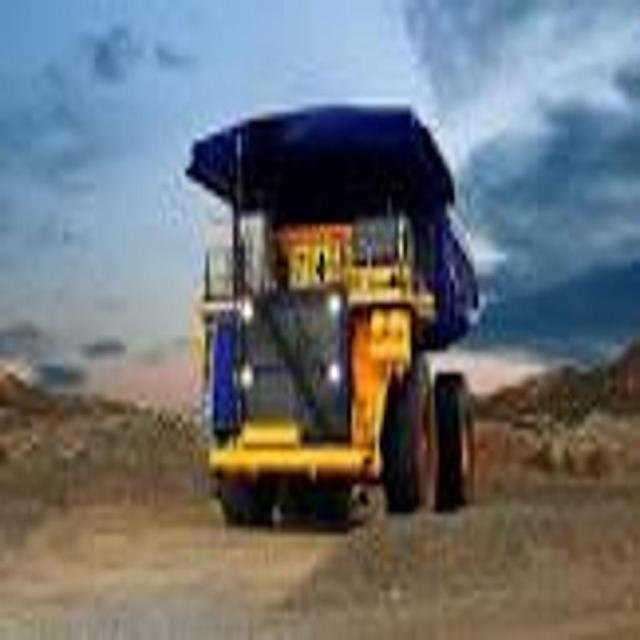dump_truck: (184, 80, 478, 518)
